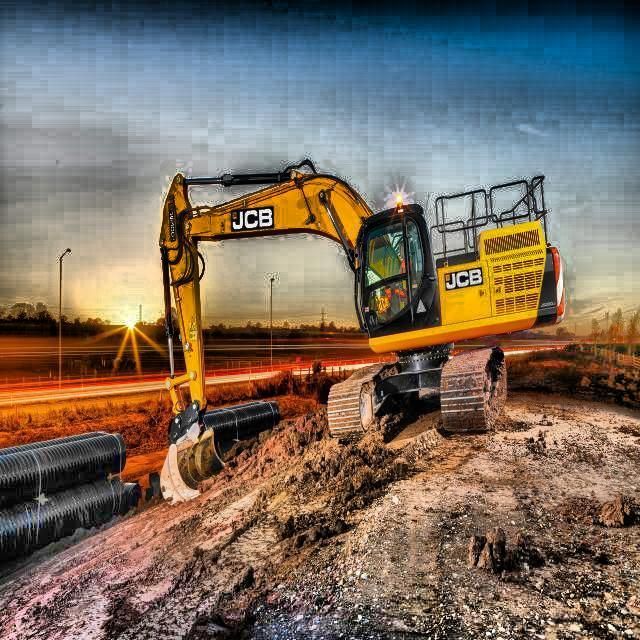excavator: (157, 156, 566, 513)
